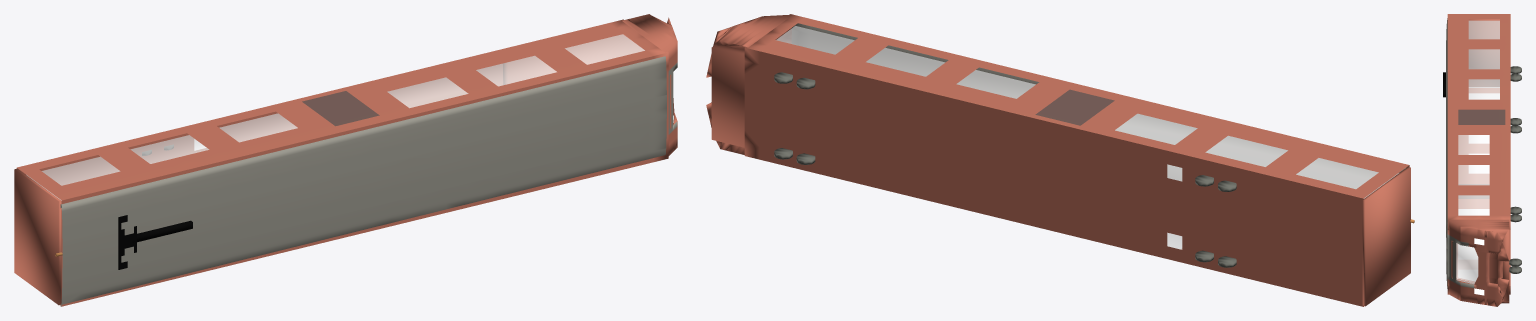
The model's file is asset18.glb.
3 views of the same model, side by side, from view 1: azimuth 30°, elevation 25°; view 2: azimuth 150°, elevation 25°; view 3: azimuth 270°, elevation 25° (orthographic). The views are drawn at different scales.
Parts seen in each view (by area): view 1: Cylinder2, Cube1_copy12, Cube16, Cube19, Cube18, Cylinder13, Cube13_copy14, Cube13; view 2: Cube1_copy12, Cube16, Cylinder2, Cube19, Cube18, Cylinder13; view 3: Cube1_copy12, Cube16, Cylinder13, Cube19, Cube16_copy17, Cylinder2, Cube18, Cylinder4_copy10, Cylinder4_copy6, Cylinder4_copy8, Cylinder4_copy9, Cylinder4_copy5 (+4 smaller).
Part boxes in pixels (box(x1,y1,x2,y2)): Cylinder2: box(60, 56, 666, 306); Cube1_copy12: box(16, 19, 668, 306); Cube16: box(26, 34, 644, 200); Cube19: box(14, 168, 61, 305); Cube18: box(503, 34, 645, 84); Cylinder13: box(622, 14, 677, 155); Cube13_copy14: box(118, 215, 136, 269); Cube13: box(132, 220, 192, 242); Cube1_copy12: box(744, 14, 1409, 306); Cube16: box(776, 26, 1398, 249); Cylinder2: box(792, 23, 1405, 197); Cube19: box(1362, 167, 1410, 306); Cube18: box(711, 44, 744, 147); Cylinder13: box(706, 14, 792, 154); Cube1_copy12: box(1447, 14, 1510, 294); Cube16: box(1458, 20, 1499, 280); Cylinder13: box(1447, 219, 1509, 306); Cube19: box(1468, 19, 1499, 86); Cube16_copy17: box(1456, 243, 1478, 284); Cylinder2: box(1446, 18, 1447, 288); Cube18: box(1502, 229, 1509, 300); Cylinder4_copy10: box(1509, 258, 1521, 266); Cylinder4_copy6: box(1509, 266, 1521, 273); Cylinder4_copy8: box(1510, 125, 1521, 133); Cylinder4_copy9: box(1510, 73, 1521, 81); Cylinder4_copy5: box(1510, 66, 1521, 73).
Bounding box in the file's own units: 0.978 × 0.1539 × 0.1471.
